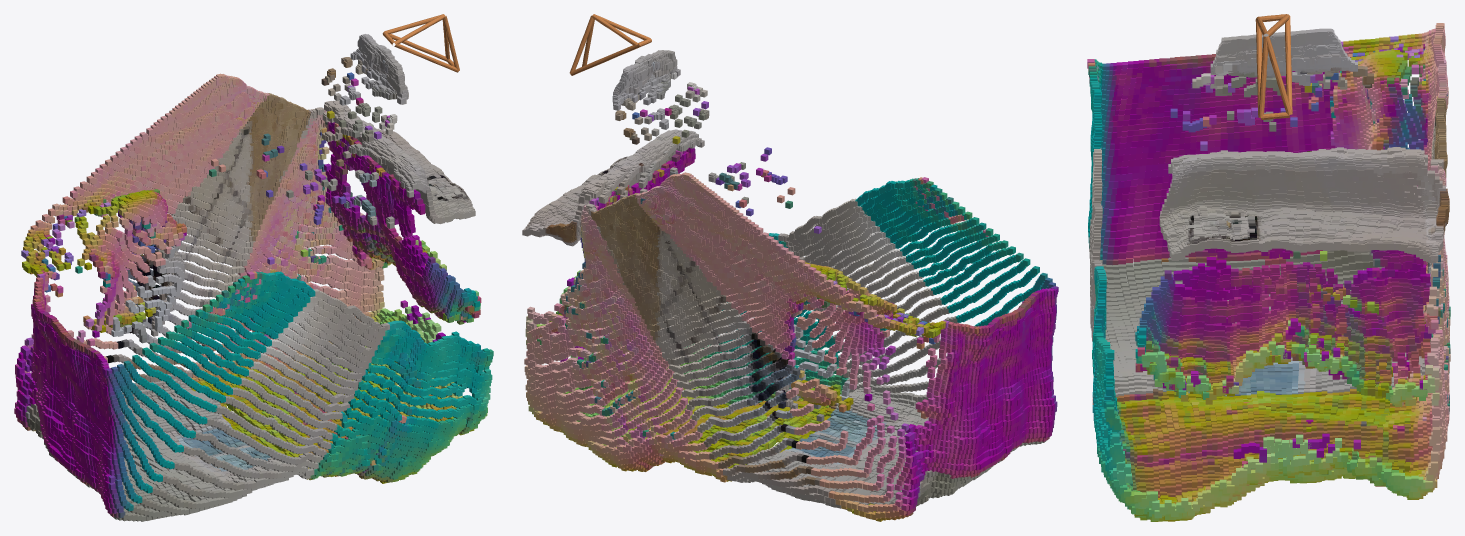
Rendered from pred_1-compressed.glb.
The picture shows the model from 3 angles, left to right: view 1: azimuth 30°, elevation 25°; view 2: azimuth 150°, elevation 25°; view 3: azimuth 270°, elevation 25°; orthographic projection. The views are drawn at different scales.
Bounding box in the file's own units: 4.34 × 4.13 × 2.5.
